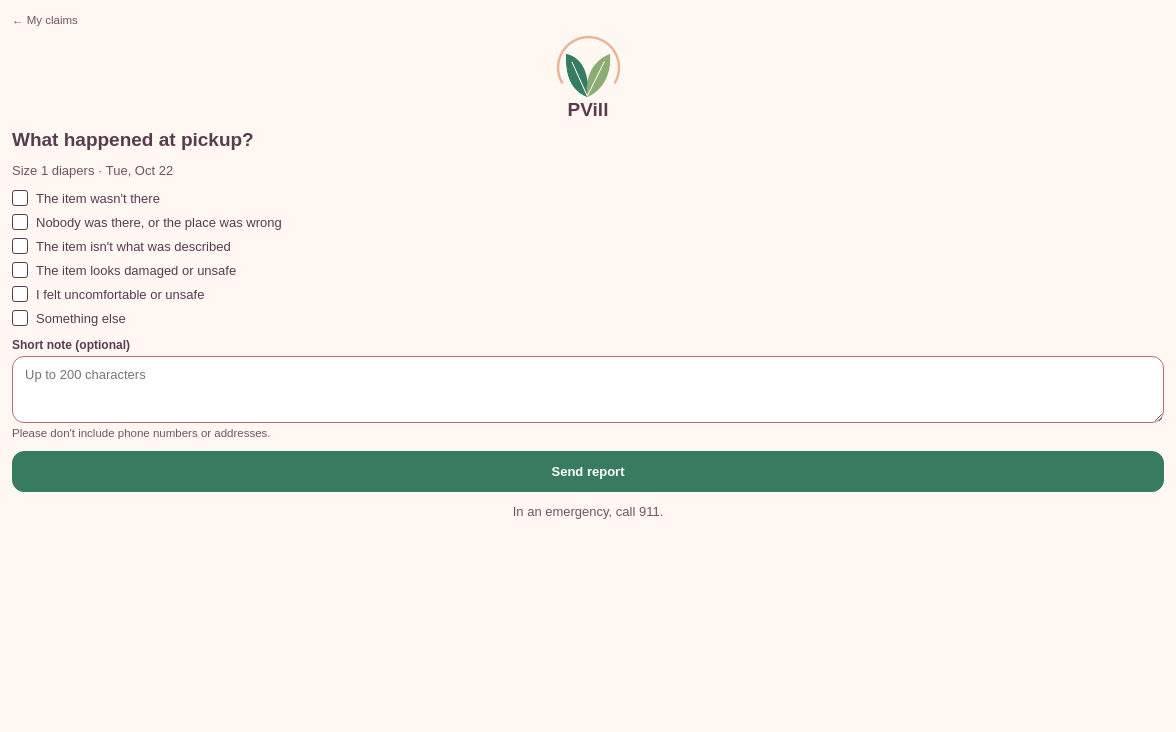
ReportProblemPage › asks what happened, one reason, with the item and date (Mock Up 17)
The image size is (1176, 732).
Expected: the heading "What happened at pickup?" is shown, [12,129,254,150]
Expected: the text "Size 1 diapers · Tue, Oct 22" is shown, [12,163,173,178]
Click the button "Send report" at (588, 472), box [12,451,1164,492]
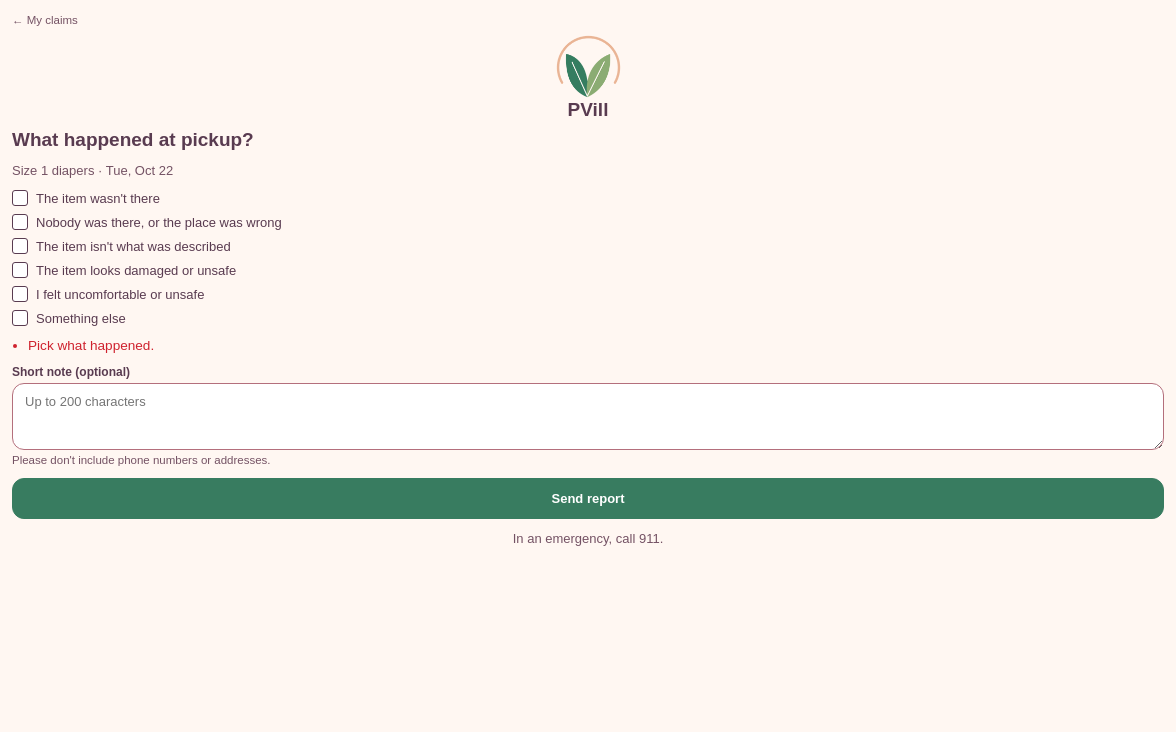
Expected: the list item "Pick what happened." is shown, [28,338,154,353]
